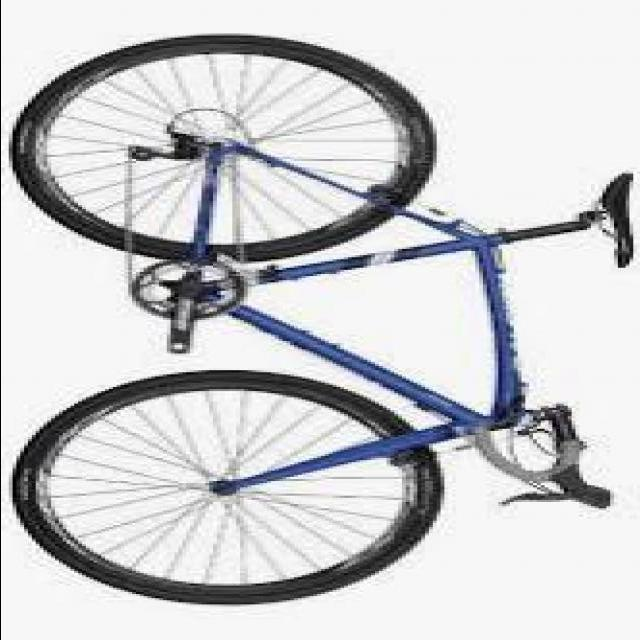bicycle: (17, 49, 637, 601)
